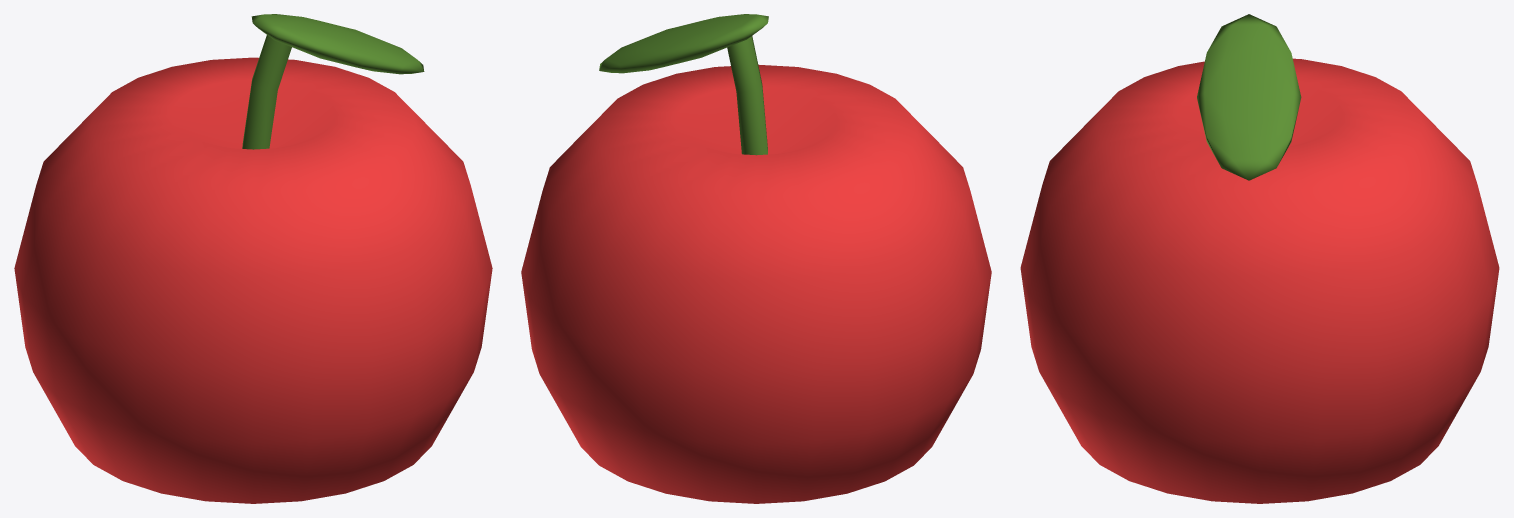
The model's file is Fruit.obj.
The picture shows the model from 3 angles, left to right: view 1: azimuth 30°, elevation 25°; view 2: azimuth 150°, elevation 25°; view 3: azimuth 270°, elevation 25°; orthographic projection.
Visible parts, largest first — view 1: Fruit, Stem; view 2: Fruit, Stem; view 3: Fruit, Stem.
Part boxes in pixels (x1,y1,x2,y2): Fruit: (14,57,492,503); Stem: (242,14,424,149); Fruit: (521,64,991,503); Stem: (599,14,768,155); Fruit: (1020,58,1499,503); Stem: (1197,14,1301,180).
Bounding box in the file's own units: 2.2 × 2.25 × 2.2.
